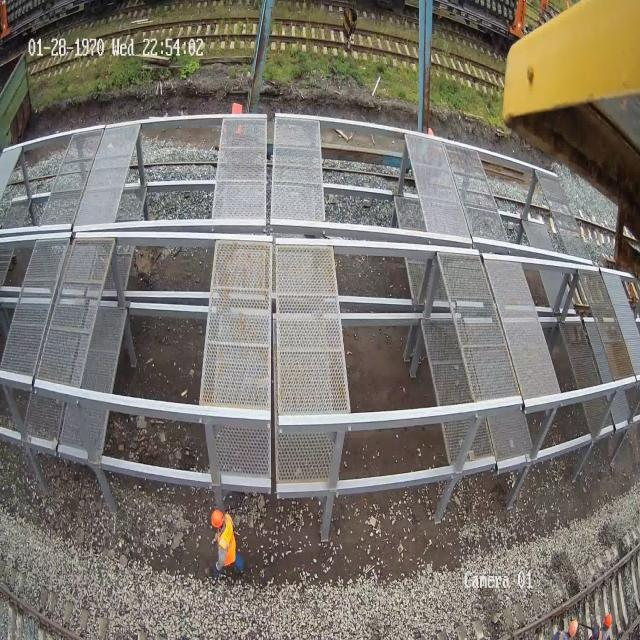Helmet: (210, 509, 223, 528), (569, 620, 578, 636), (604, 612, 612, 628)
Person: (210, 509, 243, 577), (589, 613, 612, 639), (552, 618, 578, 639)
